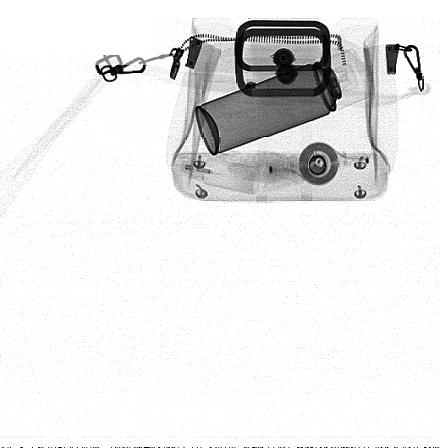Sprayer: (194, 48, 371, 155)
